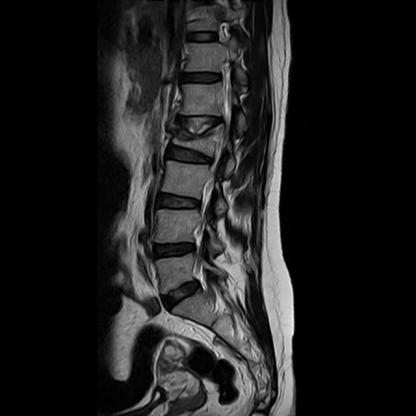Annular Tearrotation: (157, 281, 211, 310)
Fracturerotation: (162, 109, 237, 164)
